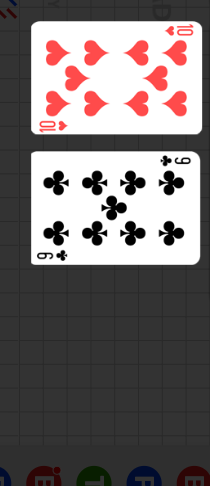10H: (38, 119, 70, 132)
9C: (35, 248, 70, 262)
